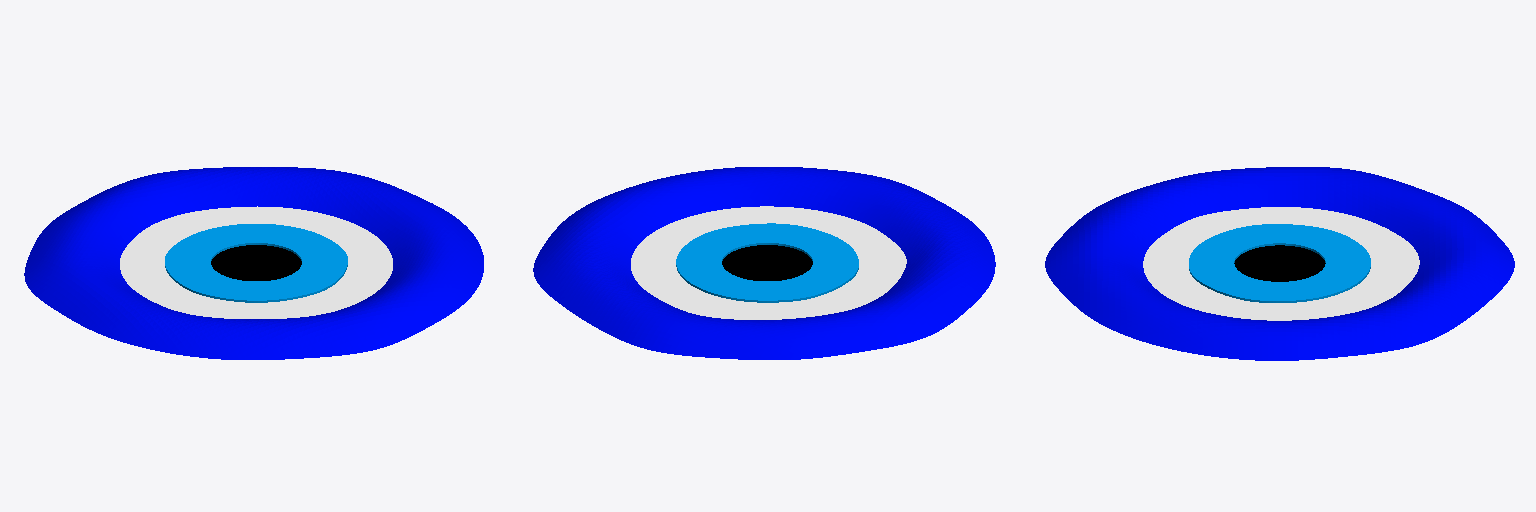
Rendered from Eye.obj.
3 views of the same model, side by side, from view 1: azimuth 30°, elevation 25°; view 2: azimuth 150°, elevation 25°; view 3: azimuth 270°, elevation 25° (orthographic).
Size of the model in its own units: 10.03 by 0.4061 by 10.3.